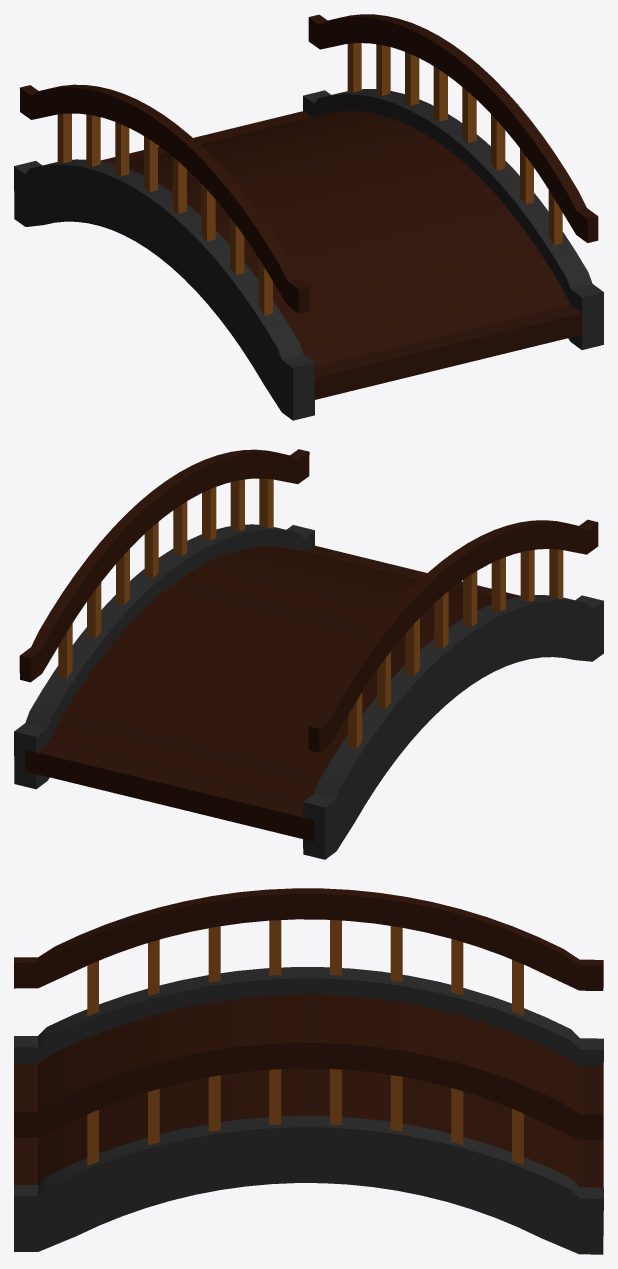
Rendered from BRIDGE_WOOD_2.fbx.
The picture shows the model from 3 angles, top to bottom: view 1: azimuth 30°, elevation 25°; view 2: azimuth 150°, elevation 25°; view 3: azimuth 270°, elevation 25°; orthographic projection. The views are drawn at different scales.
Parts seen in each view (by area): view 1: Arc003; view 2: Arc003; view 3: Arc003.
Part boxes in pixels (x1=…): Arc003: x1=14, y1=14, x2=603, y2=420; Arc003: x1=14, y1=449, x2=603, y2=859; Arc003: x1=14, y1=888, x2=603, y2=1254.
Bounding box in the file's own units: 7.03 × 4.27 × 10.93.
